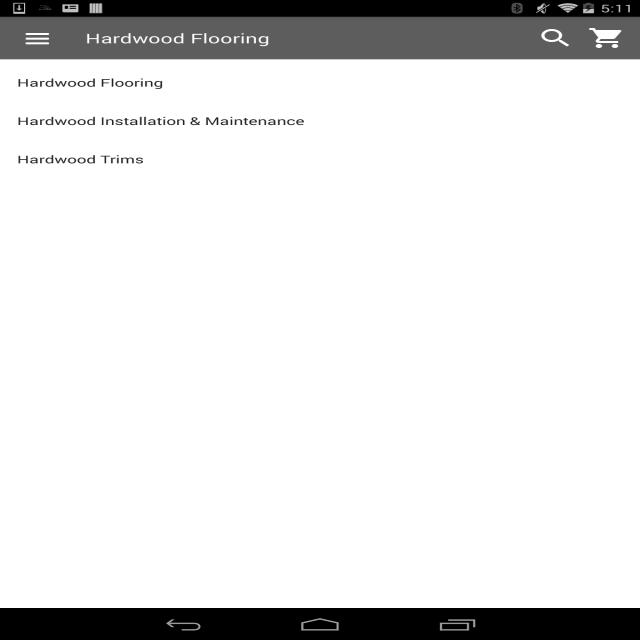ImageButton: (9, 17, 68, 59)
ImageView: (524, 22, 588, 54), (588, 26, 631, 50)
TextView: (0, 141, 640, 180), (0, 65, 640, 103), (0, 103, 640, 141), (85, 29, 270, 47)
